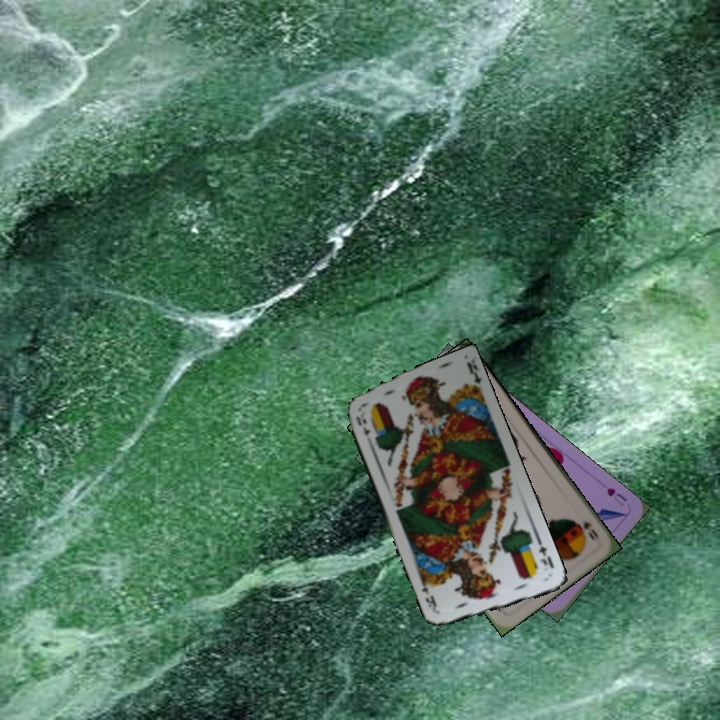EK: (534, 536, 557, 571), (352, 409, 372, 439)
HU: (602, 484, 630, 508)
SO: (579, 517, 602, 545)
